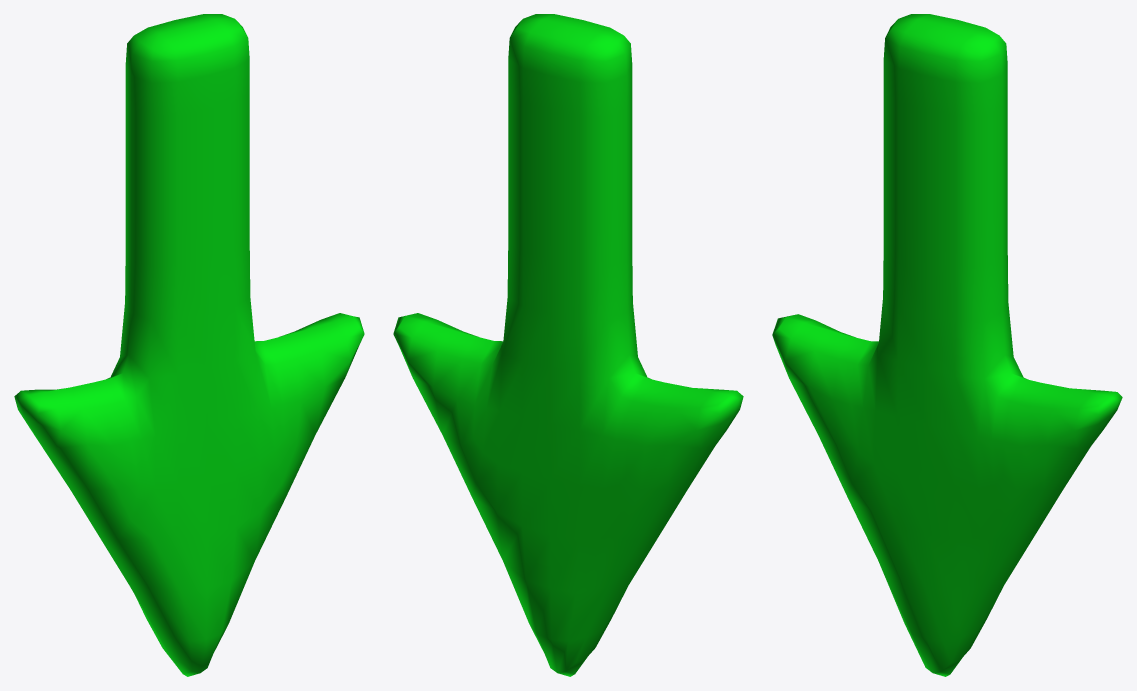
File: Arrow.fbx
3 renders of one model, left to right at view 1: azimuth 30°, elevation 25°; view 2: azimuth 150°, elevation 25°; view 3: azimuth 330°, elevation 25°, orthographic.
Visible parts, largest first — view 1: Plane.010; view 2: Plane.010; view 3: Plane.010.
Part boxes in pixels (x1=…): Plane.010: x1=14, y1=14, x2=364, y2=676; Plane.010: x1=393, y1=14, x2=743, y2=676; Plane.010: x1=772, y1=14, x2=1122, y2=676.
Bounding box in the file's own units: 43.09 × 78.89 × 8.54.
